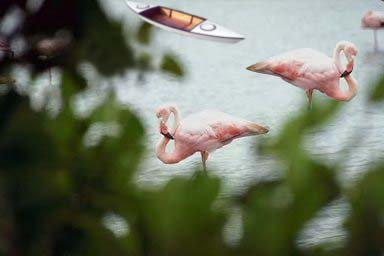copymove: (248, 40, 360, 109)
removal: (112, 44, 166, 110)
spliced: (121, 1, 242, 42)
